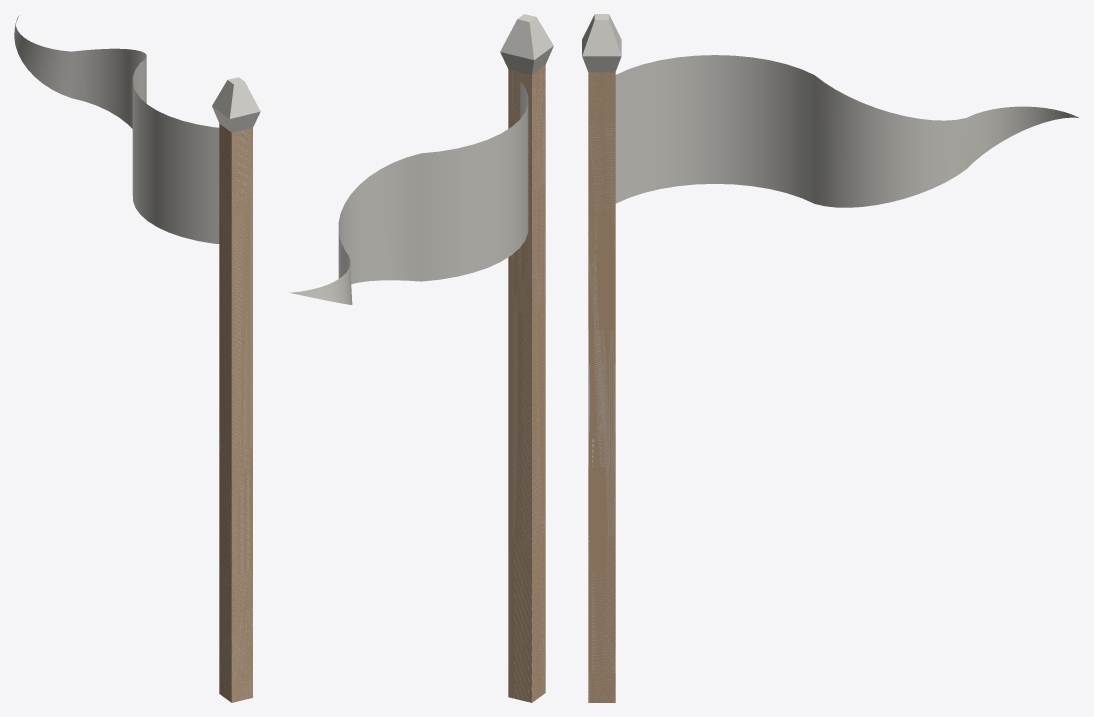
File: flagWhite.obj
3 renders of one model, left to right at view 1: azimuth 30°, elevation 25°; view 2: azimuth 150°, elevation 25°; view 3: azimuth 270°, elevation 25°, orthographic. The views are drawn at different scales.
Parts seen in each view (by area): view 1: flagWhite, flag 1; view 2: flag 1, flagWhite; view 3: flag 1, flagWhite.
Boxes of the visible parts, left/top/right/bottom form: flagWhite: left=212, top=77, right=260, bottom=702; flag 1: left=14, top=15, right=219, bottom=243; flag 1: left=289, top=81, right=528, bottom=304; flagWhite: left=500, top=14, right=553, bottom=702; flag 1: left=615, top=55, right=1078, bottom=207; flagWhite: left=582, top=14, right=621, bottom=702.
Bounding box in the file's own units: 0.8991 × 7.92 × 5.25.
